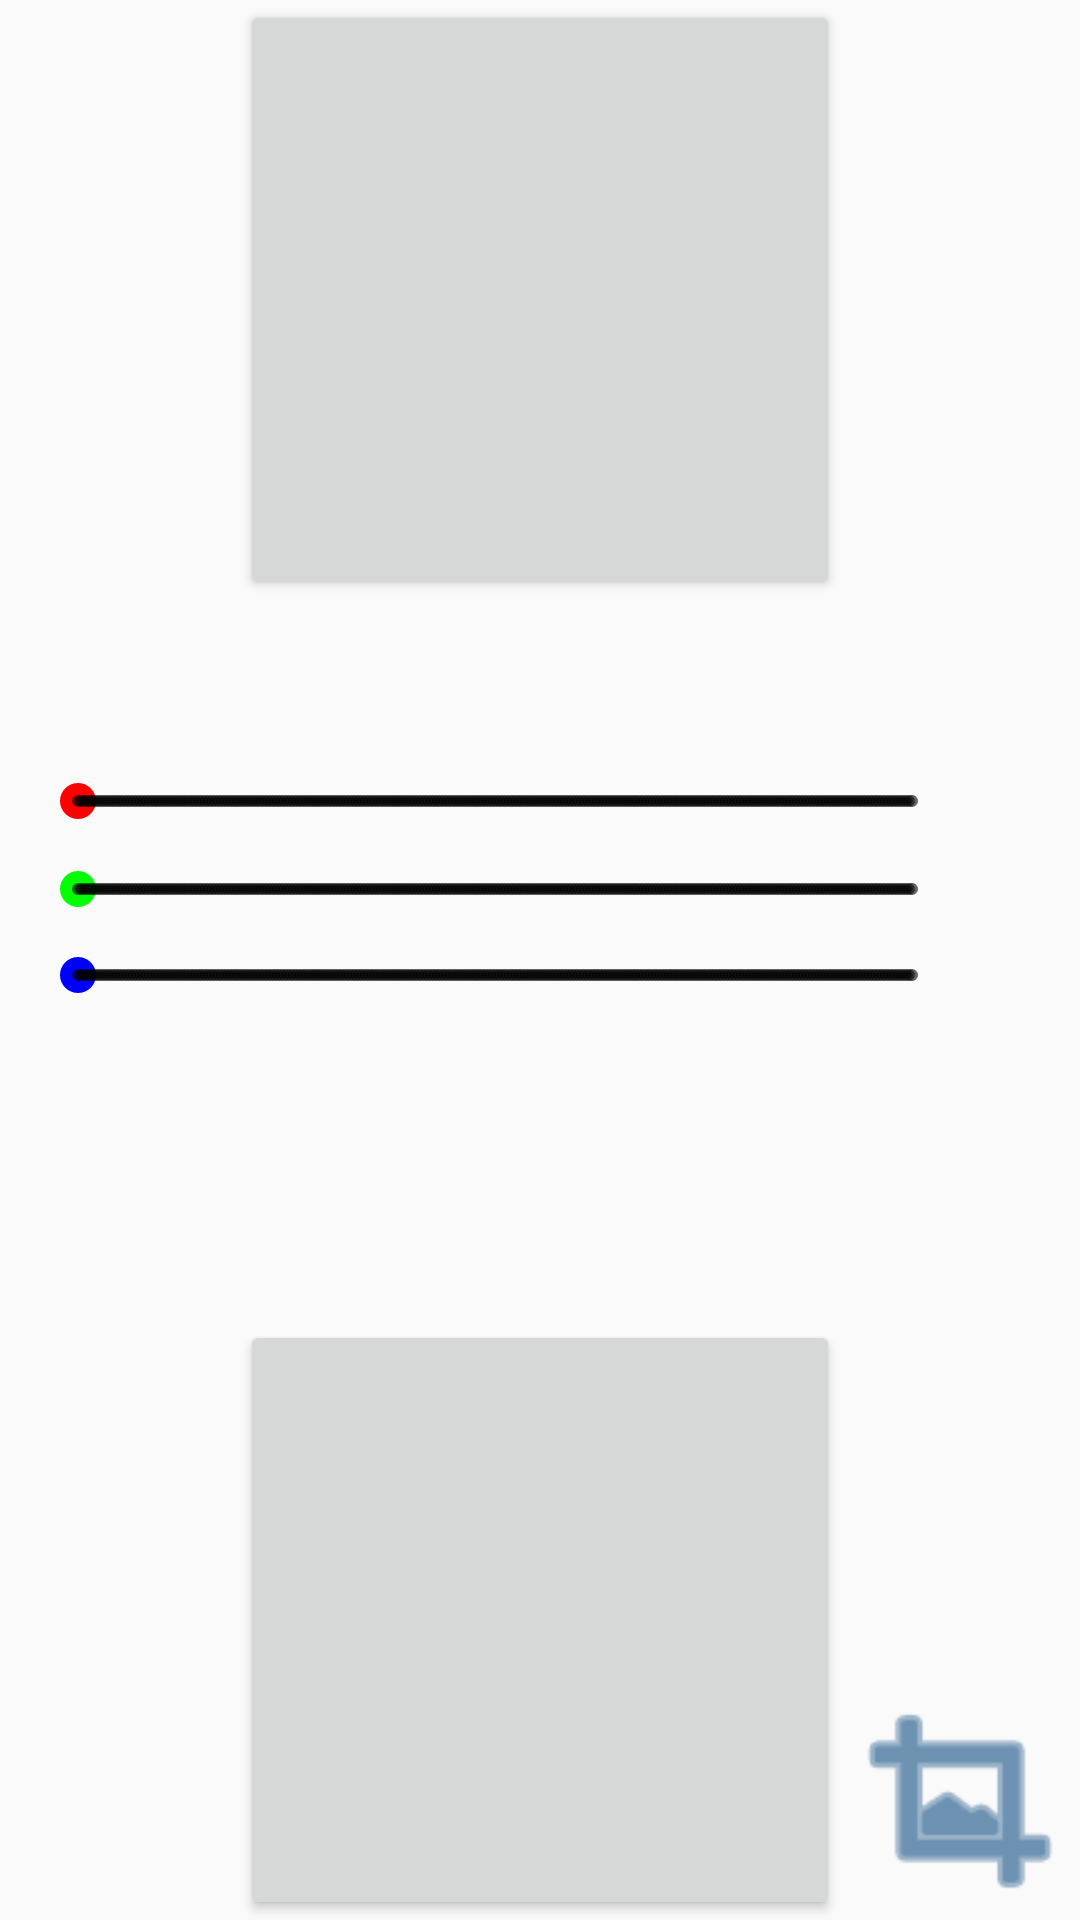

Where icons sit on this 1080px×1920px app screen, as rect(x1, y1, x2, y2):
crop: rect(868, 1714, 1051, 1888)
